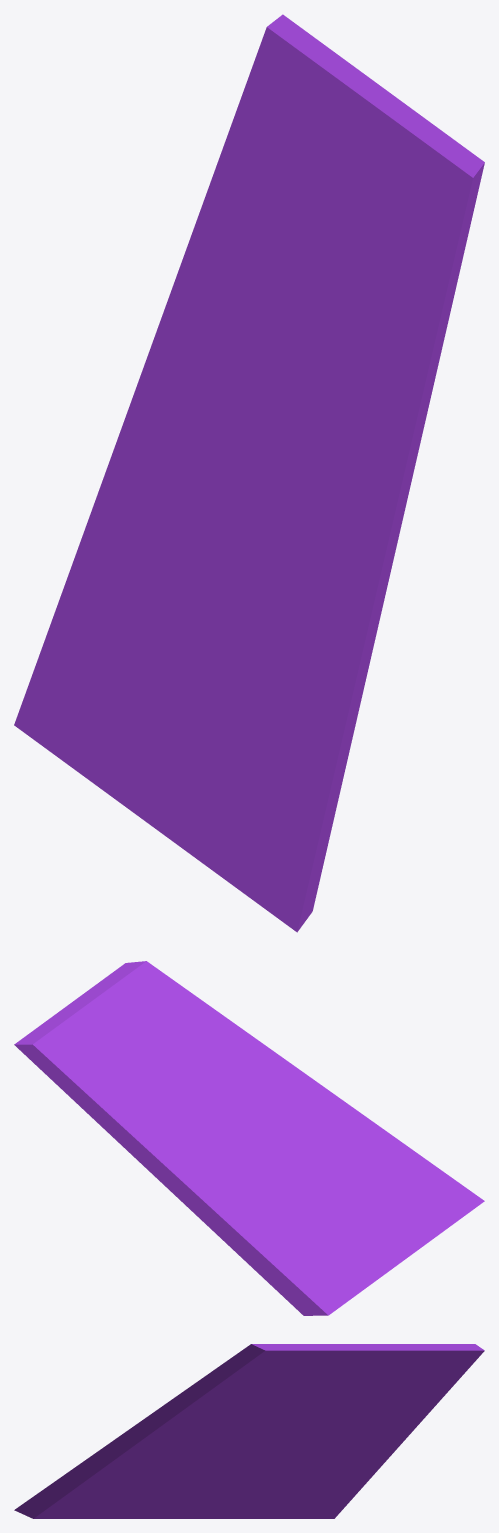
File: Window_54.fbx
3 views of the same model, one above another, from view 1: azimuth 30°, elevation 25°; view 2: azimuth 150°, elevation 25°; view 3: azimuth 270°, elevation 25° (orthographic). The views are drawn at different scales.
Parts seen in each view (by area): view 1: Window_54; view 2: Window_54; view 3: Window_54.
Boxes of the visible parts, bbox=[...] form: Window_54: bbox=[14, 14, 484, 932]; Window_54: bbox=[14, 961, 484, 1315]; Window_54: bbox=[14, 1344, 484, 1518].
Size of the model in its own units: 833 by 947 by 1493.
